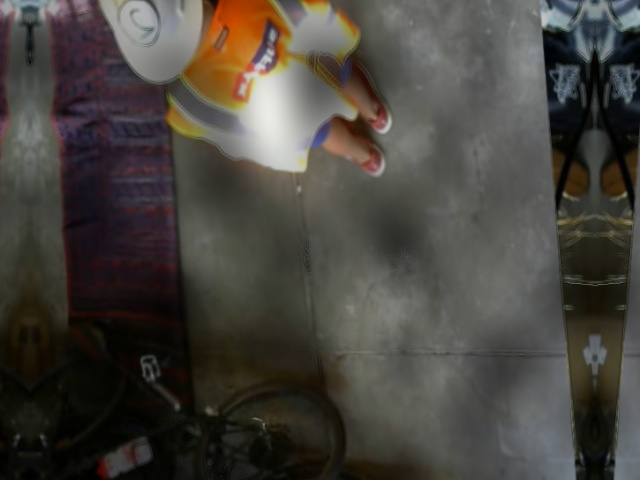two: (115, 0, 160, 50)
